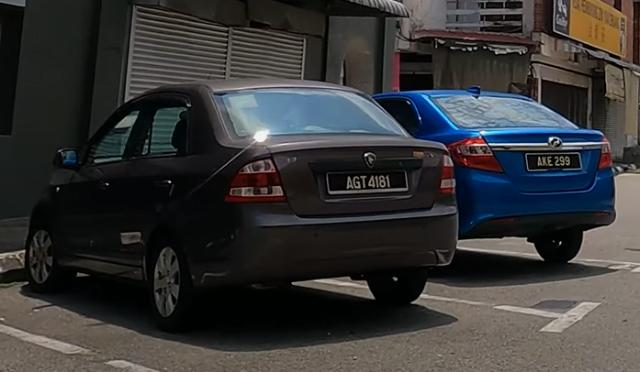License_Plate: (333, 176, 403, 191), (530, 156, 580, 170)
car: (24, 77, 460, 331), (372, 87, 619, 266)
